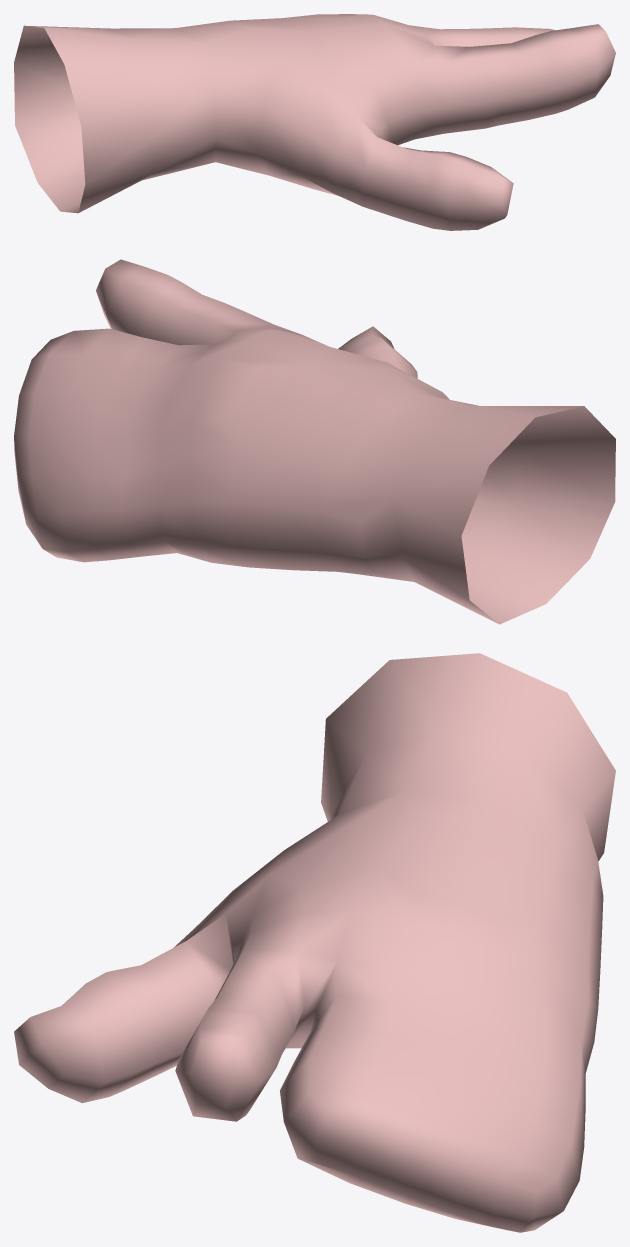
File: Nendoroid_B_Hand03.fbx
The picture shows the model from 3 angles, top to bottom: view 1: azimuth 30°, elevation 25°; view 2: azimuth 150°, elevation 25°; view 3: azimuth 270°, elevation 25°; orthographic projection. The views are drawn at different scales.
Visible parts, largest first — view 1: Nendoroid_B_Hand03; view 2: Nendoroid_B_Hand03; view 3: Nendoroid_B_Hand03.
Part boxes in pixels (x1,y1,x2,y2): Nendoroid_B_Hand03: (14,14,615,230); Nendoroid_B_Hand03: (14,259,615,624); Nendoroid_B_Hand03: (14,653,615,1232).
Bounding box in the file's own units: 0.5607 × 0.222 × 0.4085.
